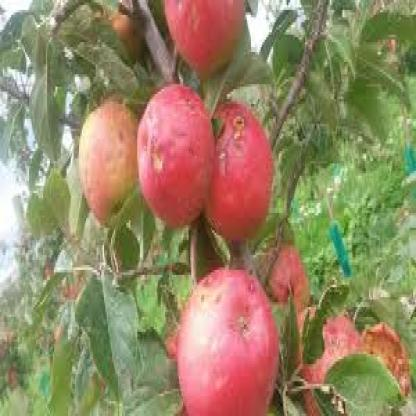apple: (172, 268, 277, 414)
damaged_apple: (134, 82, 209, 223), (200, 99, 272, 235), (71, 104, 140, 220)
